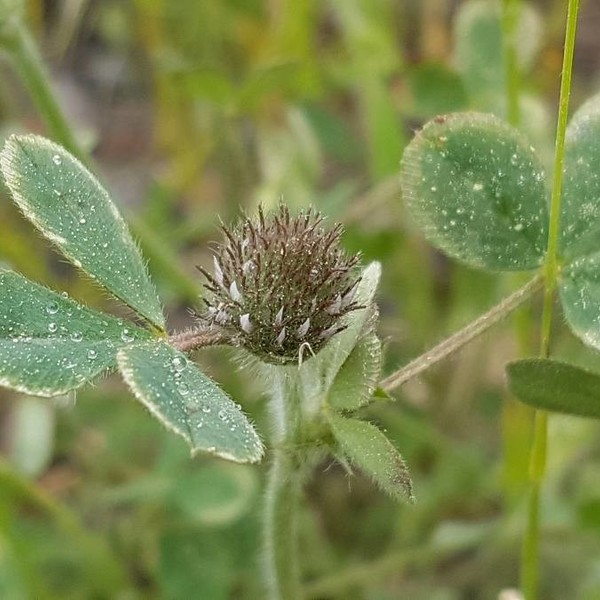obstacle: (4, 109, 259, 488), (412, 93, 569, 418)
